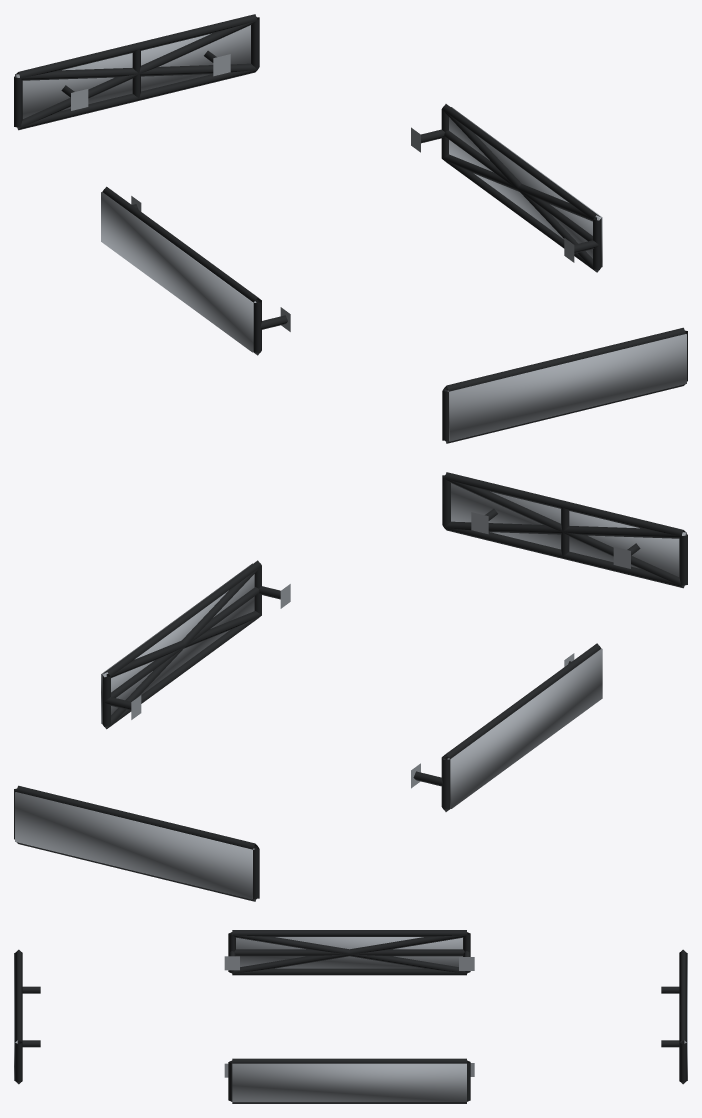
File: vorhaus_ferro_protecao.glb
The picture shows the model from 3 angles, top to bottom: view 1: azimuth 30°, elevation 25°; view 2: azimuth 150°, elevation 25°; view 3: azimuth 270°, elevation 25°; orthographic projection. The views are drawn at different scales.
Parts seen in each view (by area): view 1: Protection_front_Level3_Details, Protection_left_Level3_Details, Protection_rear_Level1_Details, Protection_rear_Level3_Details, Protection_right_Level1_Details, Protection_rear_Level2_Details, Protection_right_Level2_Details, Protection_right_Level3_Details, Protection_front_Level1_Details, Protection_left_Level1_Details; view 2: Protection_rear_Level3_Details, Protection_left_Level3_Details, Protection_front_Level1_Details, Protection_front_Level3_Details, Protection_right_Level1_Details, Protection_front_Level2_Details, Protection_right_Level2_Details, Protection_right_Level3_Details, Protection_rear_Level1_Details, Protection_left_Level1_Details; view 3: Protection_right_Level3_Details, Protection_left_Level2_Details, Protection_left_Level1_Details, Protection_left_Level3_Details, Protection_right_Level1_Details, Protection_rear_Level1_Details, Protection_front_Level1_Details.
Part boxes in pixels (left/top/right/bottom): Protection_front_Level3_Details: left=447, top=334, right=686, bottom=441; Protection_left_Level3_Details: left=101, top=192, right=256, bottom=352; Protection_rear_Level1_Details: left=14, top=14, right=259, bottom=130; Protection_rear_Level3_Details: left=15, top=25, right=250, bottom=118; Protection_right_Level1_Details: left=411, top=104, right=601, bottom=272; Protection_rear_Level2_Details: left=16, top=20, right=257, bottom=129; Protection_right_Level2_Details: left=442, top=109, right=600, bottom=272; Protection_right_Level3_Details: left=449, top=107, right=602, bottom=266; Protection_front_Level1_Details: left=442, top=327, right=687, bottom=443; Protection_left_Level1_Details: left=102, top=186, right=290, bottom=355; Protection_rear_Level3_Details: left=15, top=792, right=254, bottom=899; Protection_left_Level3_Details: left=447, top=648, right=602, bottom=808; Protection_front_Level1_Details: left=442, top=472, right=687, bottom=588; Protection_front_Level3_Details: left=451, top=483, right=686, bottom=576; Protection_right_Level1_Details: left=102, top=560, right=290, bottom=729; Protection_front_Level2_Details: left=444, top=478, right=685, bottom=587; Protection_right_Level2_Details: left=103, top=567, right=261, bottom=728; Protection_right_Level3_Details: left=101, top=563, right=254, bottom=723; Protection_rear_Level1_Details: left=14, top=785, right=259, bottom=901; Protection_left_Level1_Details: left=411, top=643, right=601, bottom=811; Protection_right_Level3_Details: left=232, top=1063, right=466, bottom=1102; Protection_left_Level2_Details: left=232, top=933, right=467, bottom=973; Protection_left_Level1_Details: left=224, top=930, right=474, bottom=975; Protection_left_Level3_Details: left=236, top=937, right=462, bottom=968; Protection_right_Level1_Details: left=224, top=1058, right=474, bottom=1103; Protection_rear_Level1_Details: left=661, top=949, right=686, bottom=1084; Protection_front_Level1_Details: left=15, top=949, right=40, bottom=1084.
Bounding box in the file's own units: 2.22 × 0.354 × 4.77.
Materials: 1 (1 with a texture image).
